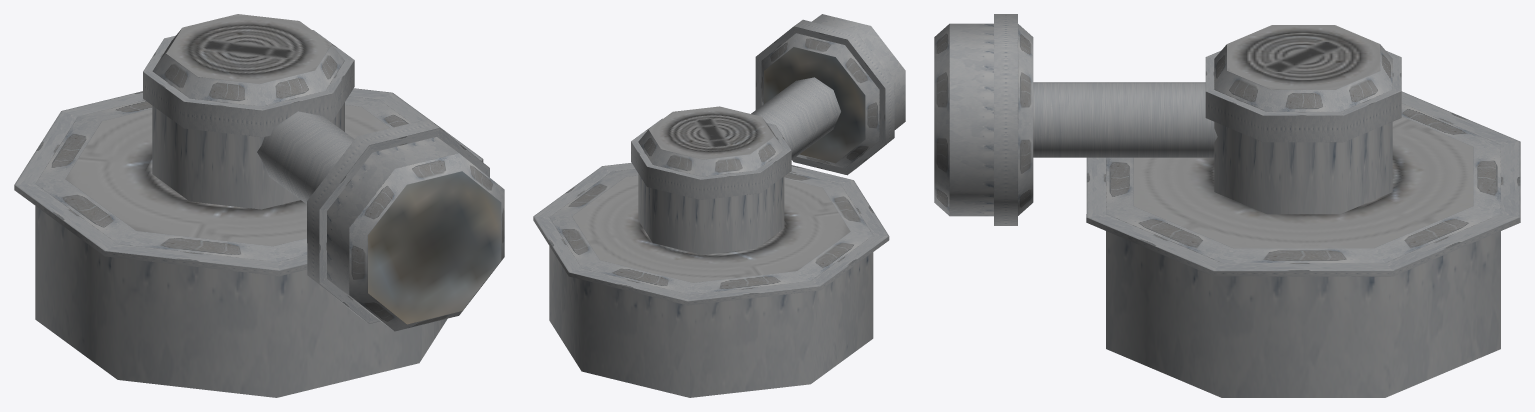
File: SM_HoseSysT_ground.fbx
3 renders of one model, left to right at view 1: azimuth 30°, elevation 25°; view 2: azimuth 150°, elevation 25°; view 3: azimuth 270°, elevation 25°, orthographic. The views are drawn at different scales.
Visible parts, largest first — view 1: SM_HoseSysT_ground_LOD0; view 2: SM_HoseSysT_ground_LOD0; view 3: SM_HoseSysT_ground_LOD0.
Part boxes in pixels (x1=…): SM_HoseSysT_ground_LOD0: x1=14, y1=14, x2=504, y2=397; SM_HoseSysT_ground_LOD0: x1=533, y1=14, x2=905, y2=397; SM_HoseSysT_ground_LOD0: x1=934, y1=14, x2=1520, y2=397.
Size of the model in its own units: 30.33 by 40.96 by 25.
Materials: 2 (2 with a texture image).
